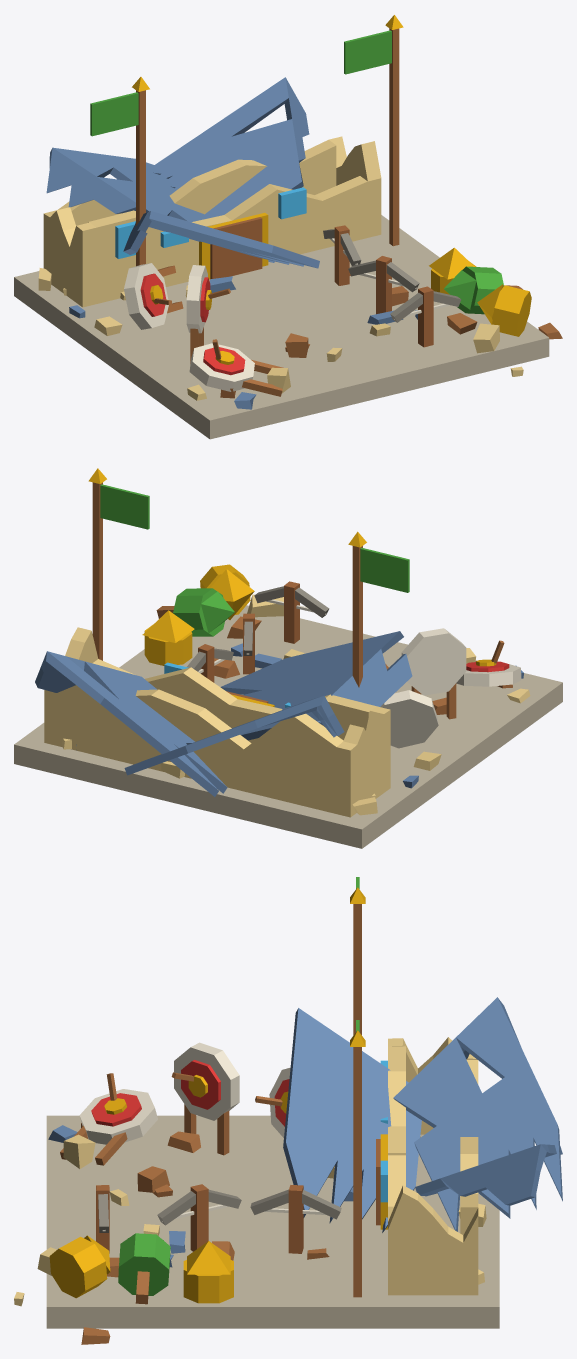
Rendered from archery_range_t3_v2_dmg2.glb.
The picture shows the model from 3 angles, top to bottom: view 1: azimuth 30°, elevation 25°; view 2: azimuth 150°, elevation 25°; view 3: azimuth 270°, elevation 25°; orthographic projection. The views are drawn at different scales.
Parts seen in each view (by area): view 1: archery_range_t3_v2_dmg2; view 2: archery_range_t3_v2_dmg2; view 3: archery_range_t3_v2_dmg2.
Boxes of the visible parts, <box> form: archery_range_t3_v2_dmg2: <box>14,15,562,439</box>; archery_range_t3_v2_dmg2: <box>14,468,562,848</box>; archery_range_t3_v2_dmg2: <box>14,877,562,1344</box>.
Size of the model in its own units: 0.8131 by 0.525 by 0.9093.
1 material, 1 textured.
